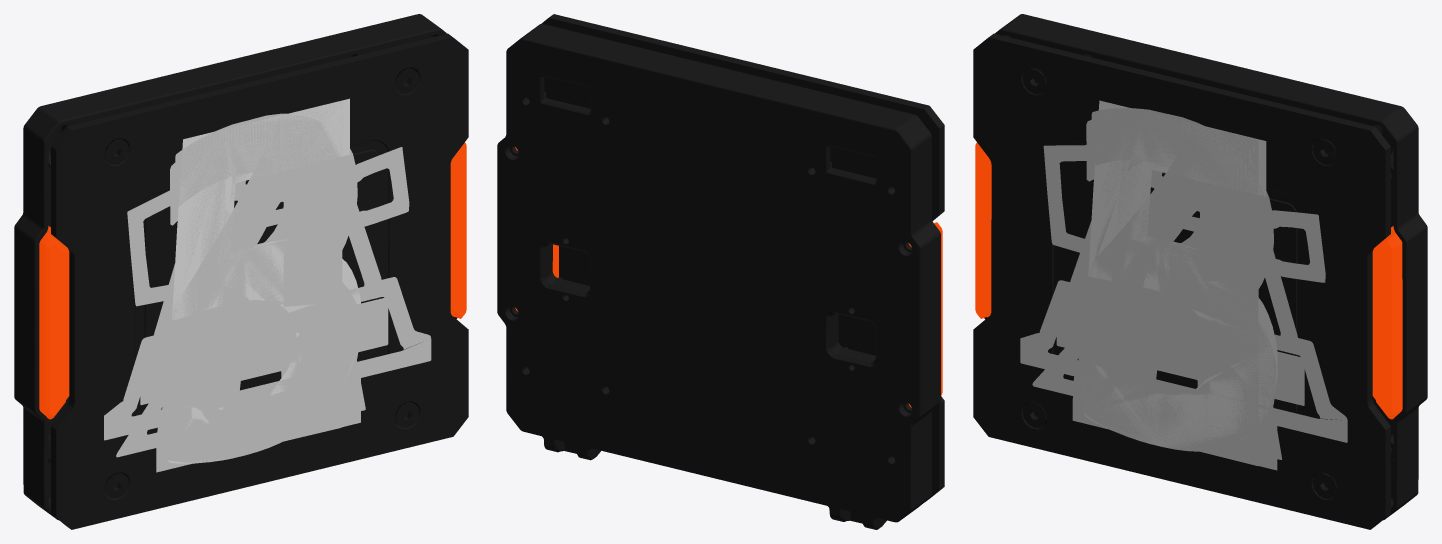
The model's file is armor_small.glb.
3 renders of one model, left to right at view 1: azimuth 30°, elevation 25°; view 2: azimuth 150°, elevation 25°; view 3: azimuth 330°, elevation 25°, orthographic.
Visible parts, largest first — view 1: BODY, STICKER_4, STICKER_3, BODY_BASE, STICKER_B, STICKER_5, STICKER_O, STICKER_G, LIGHT_L_RED, PANEL_CENTER, LIGHT_R_RED, STICKER_2; view 2: BODY_BASE, BODY; view 3: BODY, STICKER_3, BODY_BASE, STICKER_4, STICKER_5, STICKER_B, STICKER_O, STICKER_G, LIGHT_R_RED, PANEL_CENTER, LIGHT_L_RED, STICKER_2.
Part boxes in pixels (x1,y1,x2,y2): BODY: [51, 33, 468, 529]; STICKER_4: [140, 101, 388, 441]; STICKER_3: [163, 115, 359, 462]; BODY_BASE: [14, 14, 457, 520]; STICKER_B: [104, 141, 431, 440]; STICKER_5: [167, 98, 360, 463]; STICKER_O: [159, 127, 365, 460]; STICKER_G: [116, 147, 409, 457]; LIGHT_L_RED: [39, 226, 69, 419]; PANEL_CENTER: [145, 151, 378, 409]; LIGHT_R_RED: [450, 142, 466, 318]; STICKER_2: [156, 113, 360, 472]; BODY_BASE: [497, 24, 940, 529]; BODY: [541, 14, 944, 501]; BODY: [973, 33, 1390, 529]; STICKER_3: [1079, 108, 1276, 451]; BODY_BASE: [984, 14, 1427, 520]; STICKER_4: [1056, 125, 1304, 465]; STICKER_5: [1083, 100, 1277, 448]; STICKER_B: [1020, 143, 1347, 442]; STICKER_O: [1076, 117, 1282, 459]; STICKER_G: [1032, 145, 1325, 438]; LIGHT_R_RED: [1372, 226, 1402, 419]; PANEL_CENTER: [1062, 161, 1295, 412]; LIGHT_L_RED: [975, 142, 991, 318]; STICKER_2: [1072, 114, 1277, 470].
Size of the model in its own units: 0.141 by 0.1299 by 0.0192.
